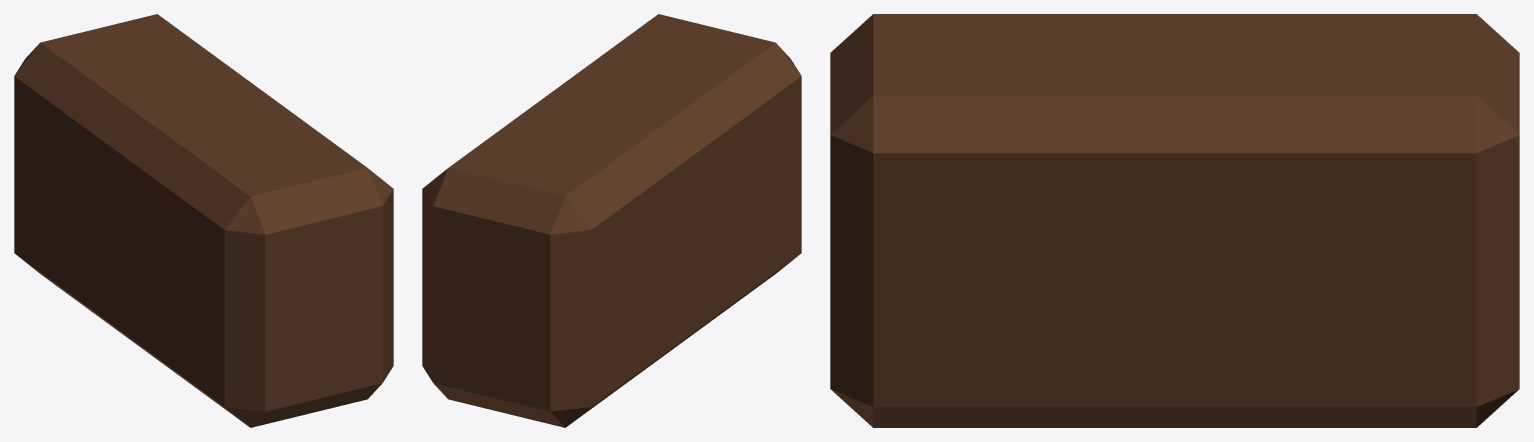
Rendered from stock_committed.gltf.
3 renders of one model, left to right at view 1: azimuth 30°, elevation 25°; view 2: azimuth 150°, elevation 25°; view 3: azimuth 270°, elevation 25°, orthographic. The views are drawn at different scales.
Visible parts, largest first — view 1: Stock_Wood_Dark; view 2: Stock_Wood_Dark; view 3: Stock_Wood_Dark.
Part boxes in pixels (x1,y1,x2,y2): Stock_Wood_Dark: (14,14,393,427); Stock_Wood_Dark: (422,14,801,427); Stock_Wood_Dark: (830,14,1519,427).
Bounding box in the file's own units: 0.065 × 0.085 × 0.16.
